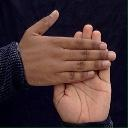hand: (19, 10, 116, 85), (53, 23, 113, 124)
